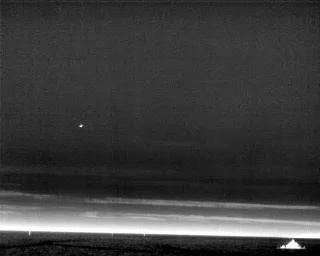BIRD: (77, 122, 85, 130)
